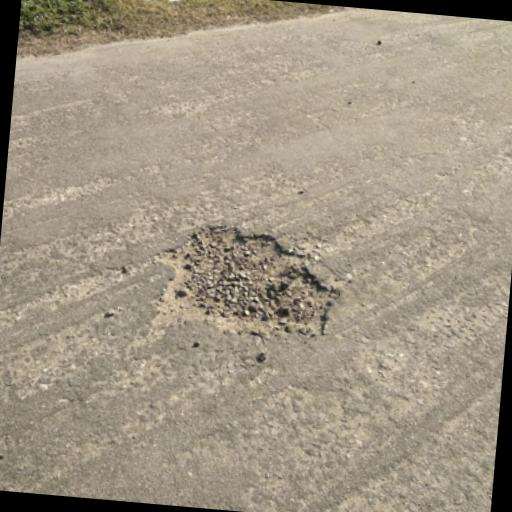pothole: (145, 216, 348, 344)
